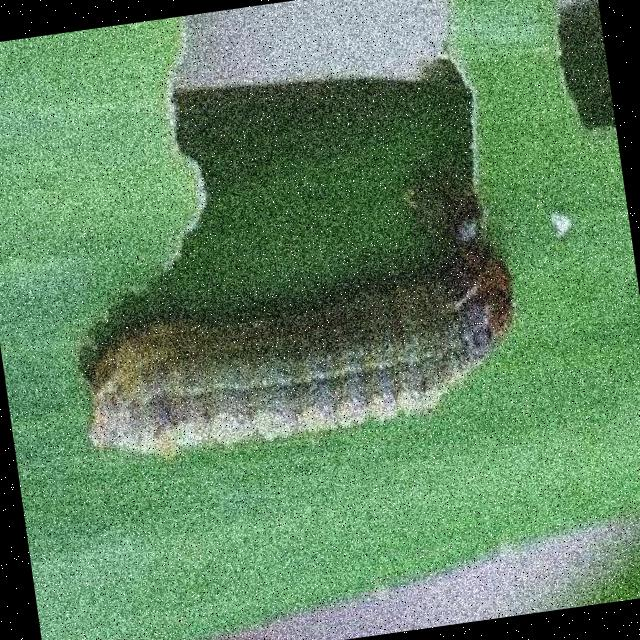worm: (67, 221, 531, 472)
